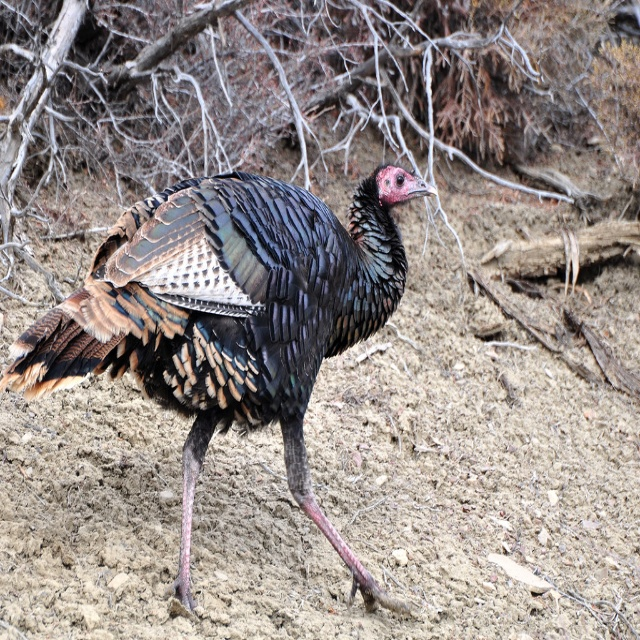Turkey: (0, 161, 438, 613)
